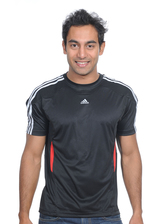clothoes: (23, 71, 145, 219)
